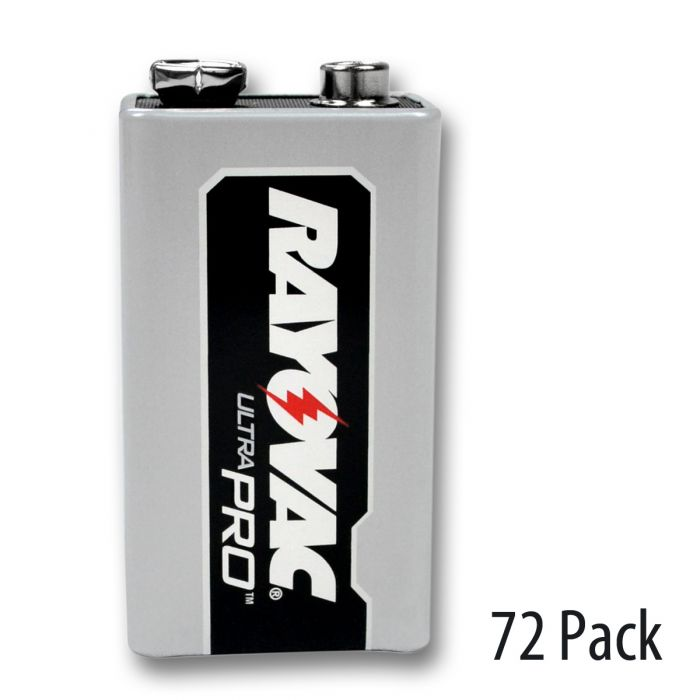9V: (106, 48, 461, 666)
